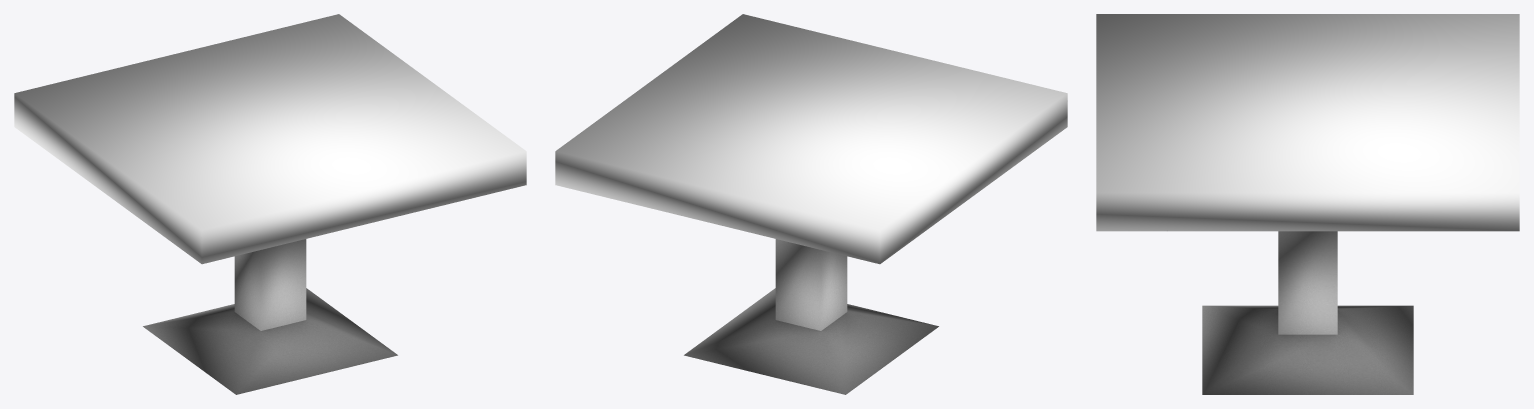
Rendered from Table_SquareCenter.dae.
3 views of the same model, side by side, from view 1: azimuth 30°, elevation 25°; view 2: azimuth 150°, elevation 25°; view 3: azimuth 270°, elevation 25° (orthographic). The views are drawn at different scales.
Parts seen in each view (by area): view 1: Cube; view 2: Cube; view 3: Cube.
Boxes of the visible parts, x1=… form: Cube: x1=14, y1=14, x2=526, y2=394; Cube: x1=555, y1=14, x2=1067, y2=394; Cube: x1=1096, y1=14, x2=1519, y2=394.
Bounding box in the file's own units: 3.2 × 3.2 × 2.06.
Materials: 1 (1 with a texture image).
